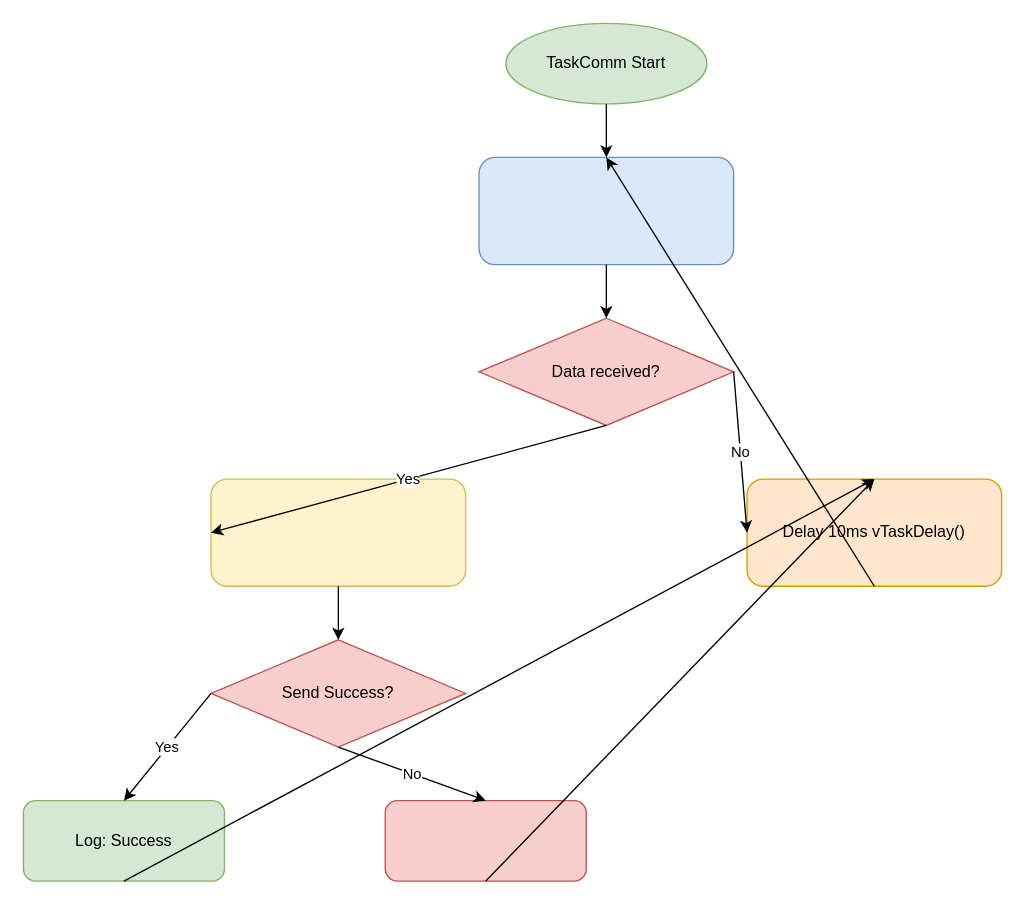
Image size: 1025x915. Some labels were removed from this diagram. The centre of each missing label's shape, as x and y in pixels:
"Log: Error" goes at point (485, 840).
"Send via ESP-NOW esp_now_send()" goes at point (338, 532).
"Wait for Message from sensorQueue (Timeout: 100ms)" goes at point (606, 210).
